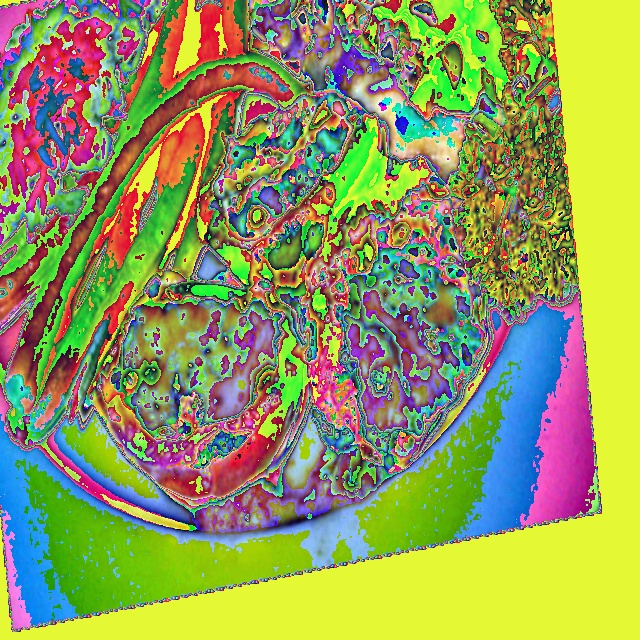background: (0, 0, 579, 535)
